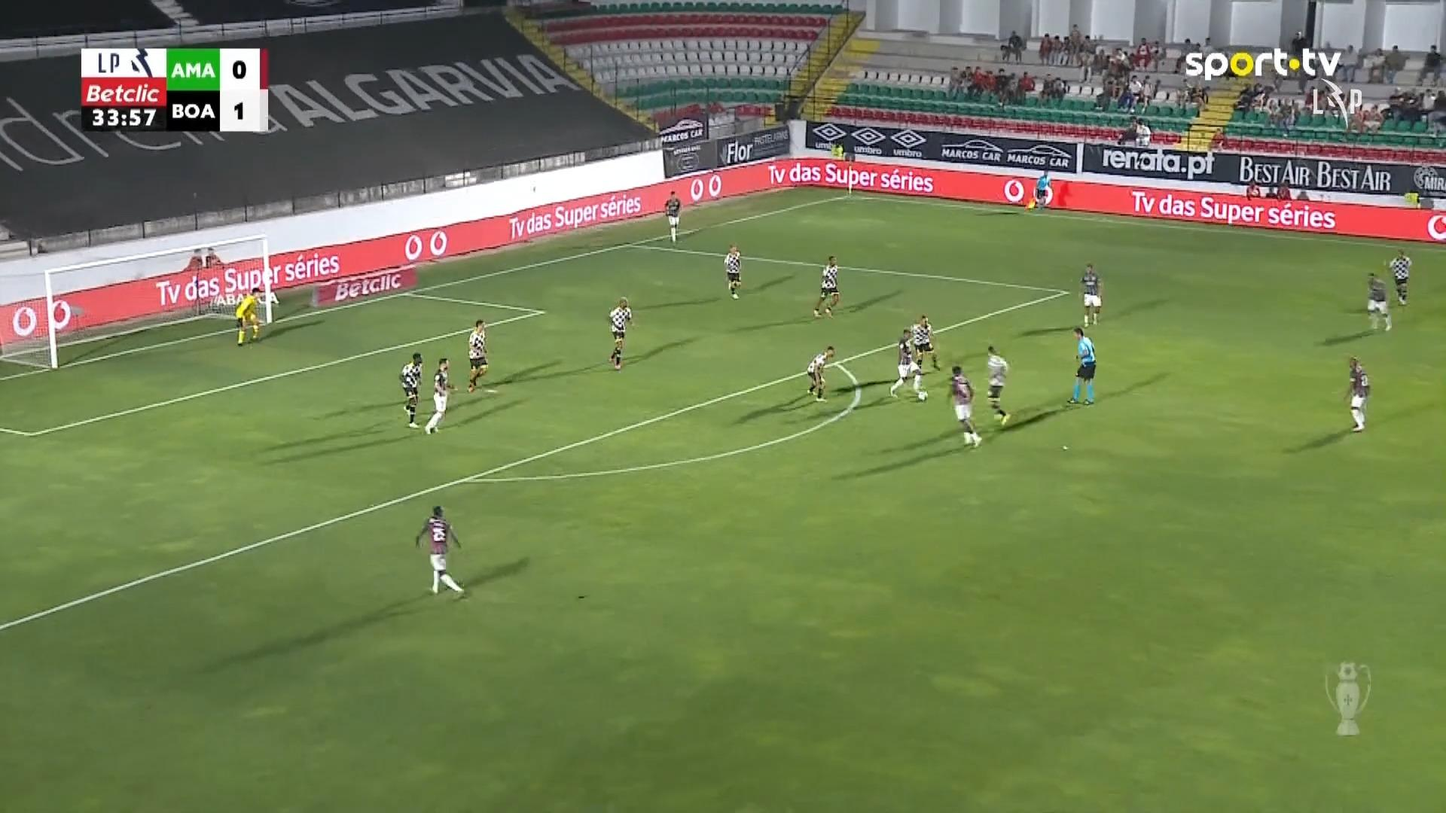ball: (476, 363, 488, 375), (917, 390, 927, 400)
goalkeeper: (233, 285, 264, 345)
player: (414, 504, 464, 597), (947, 364, 981, 448), (889, 327, 928, 400), (423, 357, 456, 434), (985, 344, 1011, 427), (1344, 355, 1370, 431), (607, 296, 633, 370), (398, 352, 423, 428), (465, 318, 489, 392), (911, 313, 941, 371), (813, 255, 840, 318), (806, 344, 834, 401), (1365, 271, 1391, 331), (1080, 262, 1103, 326), (1388, 248, 1412, 305), (723, 244, 742, 299), (664, 190, 681, 244)
referee: (1066, 326, 1097, 405), (1035, 169, 1052, 209)
